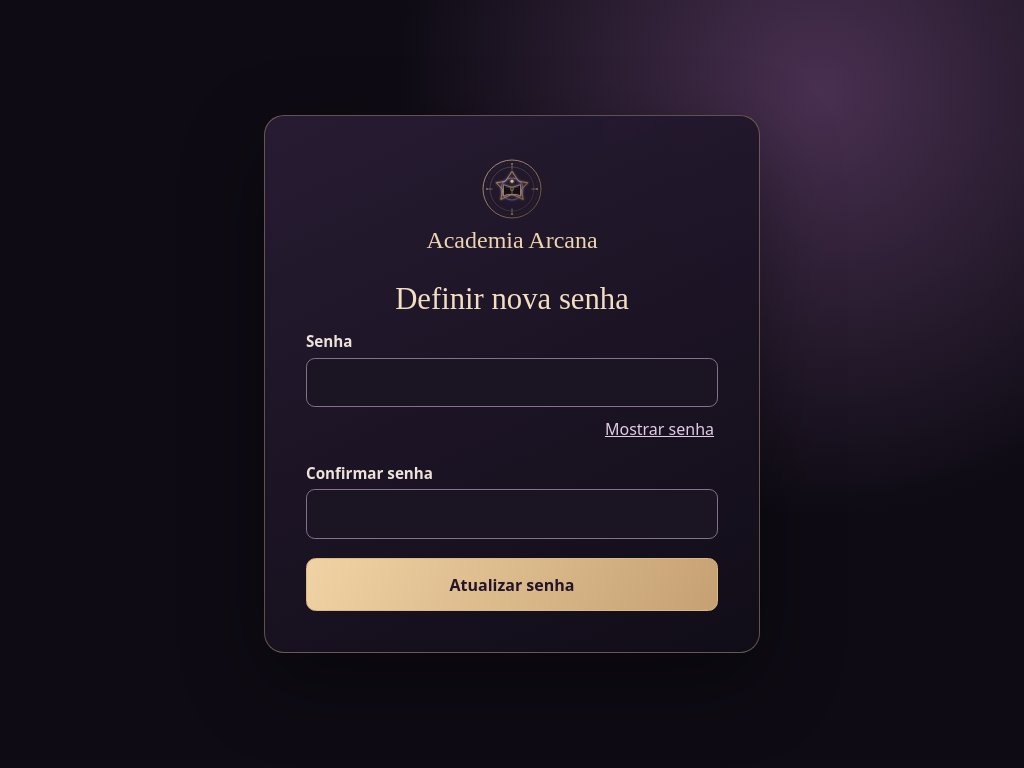
it: AuthForm › requires matching passwords before updating them
Step 1. Type "new-password" into the password field labelled "Senha" → (512, 383), box [306,358,718,407]
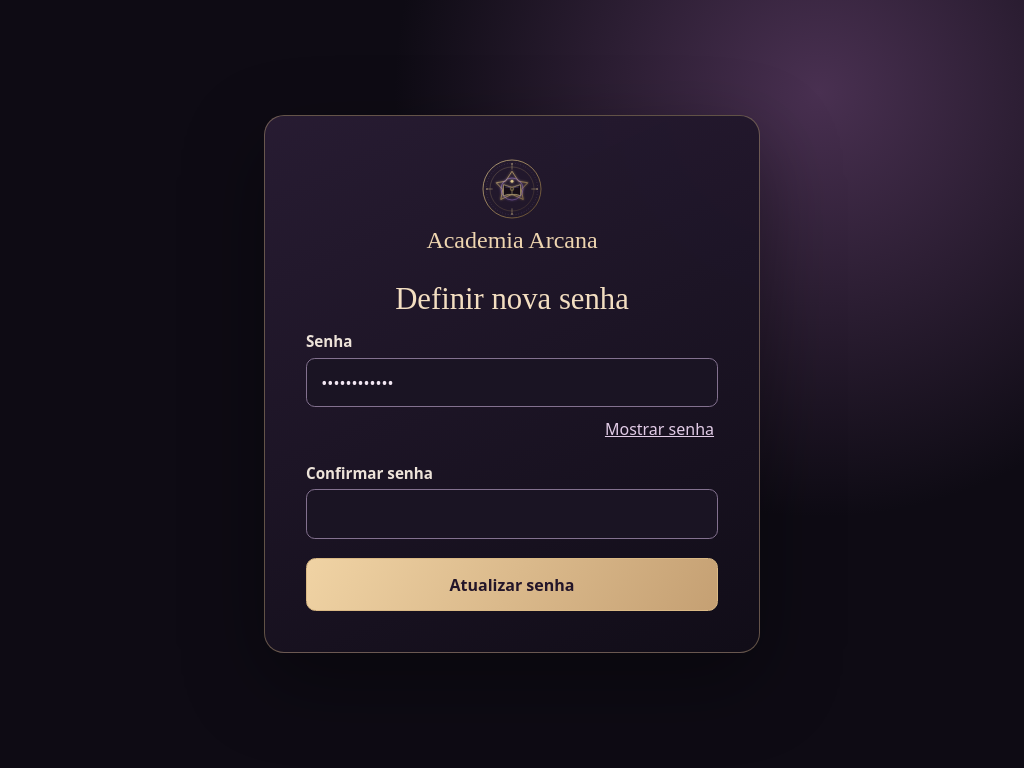
Step 2. Type "different-password" into the password field labelled "Confirmar senha" → (512, 514), box [306,489,718,539]
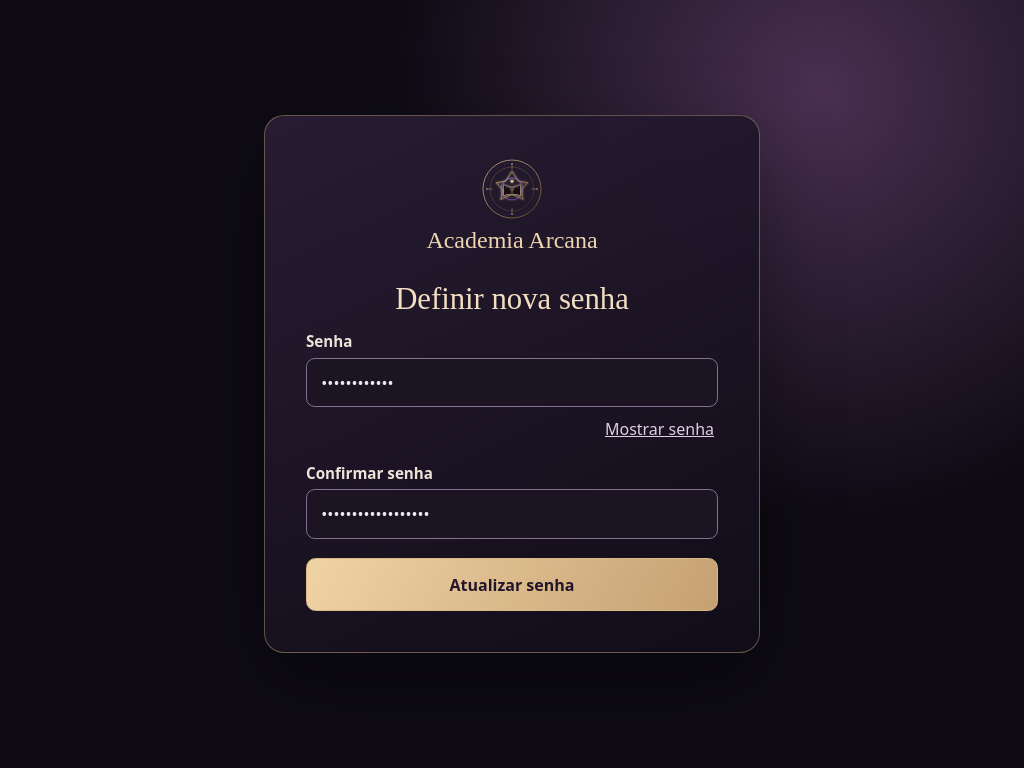
Step 3. Click the button "Atualizar senha" → (512, 584), box [306,558,718,611]
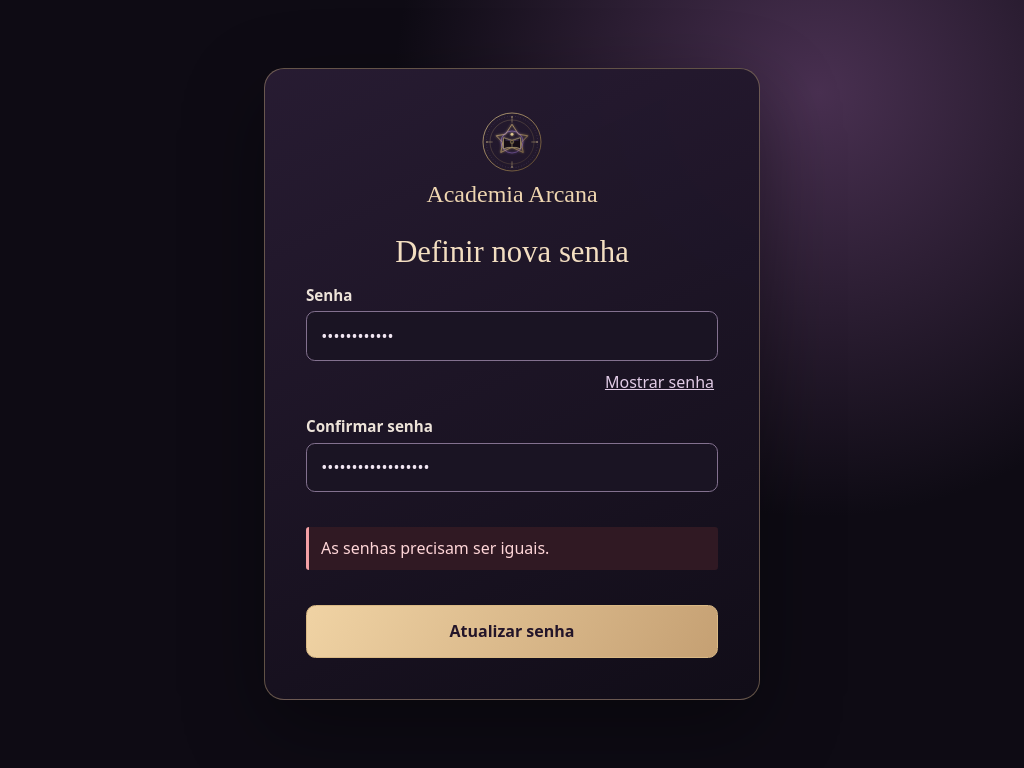
Now the message reads "As senhas precisam ser iguais.", box [321,537,549,559]
